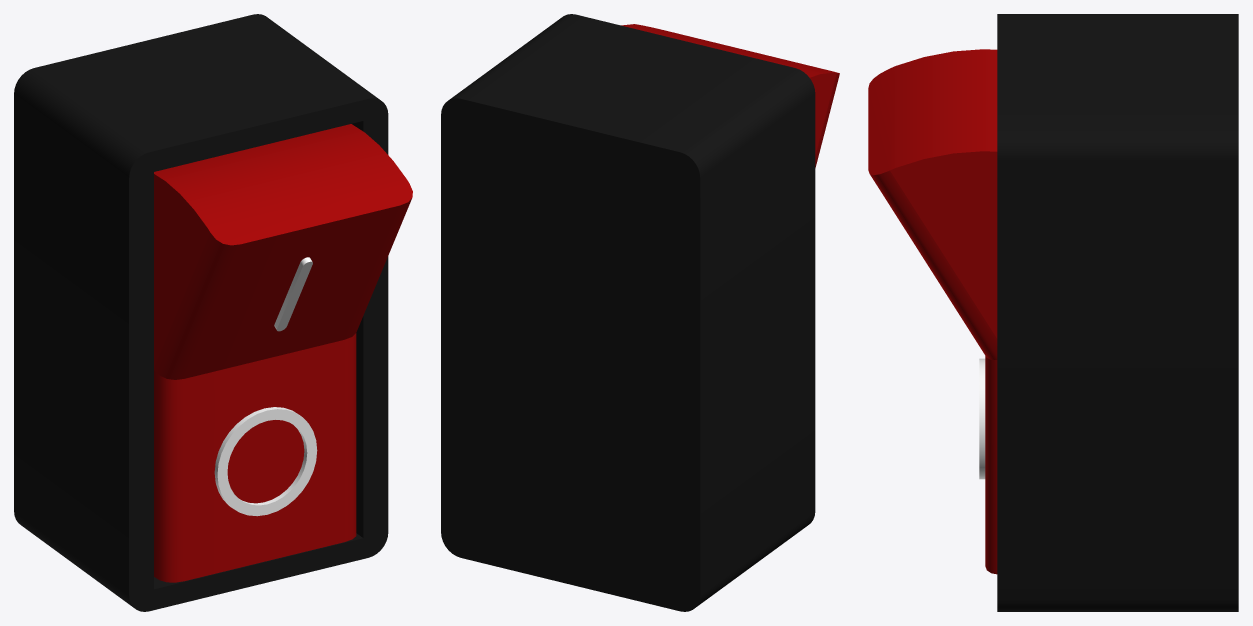
Rendered from #04_Obj_Switch.FBX.
The picture shows the model from 3 angles, left to right: view 1: azimuth 30°, elevation 25°; view 2: azimuth 150°, elevation 25°; view 3: azimuth 270°, elevation 25°; orthographic projection. The views are drawn at different scales.
Visible parts, largest first — view 1: #04_Obj_Switch, Switch, Switch_line; view 2: #04_Obj_Switch, Switch; view 3: #04_Obj_Switch, Switch, Switch_line.
Part boxes in pixels (x1=…): #04_Obj_Switch: x1=14, y1=14, x2=388, y2=611; Switch: x1=154, y1=124, x2=412, y2=582; Switch_line: x1=214, y1=257, x2=317, y2=516; #04_Obj_Switch: x1=441, y1=14, x2=815, y2=611; Switch: x1=621, y1=24, x2=839, y2=167; #04_Obj_Switch: x1=997, y1=14, x2=1238, y2=611; Switch: x1=868, y1=49, x2=997, y2=574; Switch_line: x1=979, y1=358, x2=985, y2=479.
Size of the model in its own units: 260 by 307 by 440.
